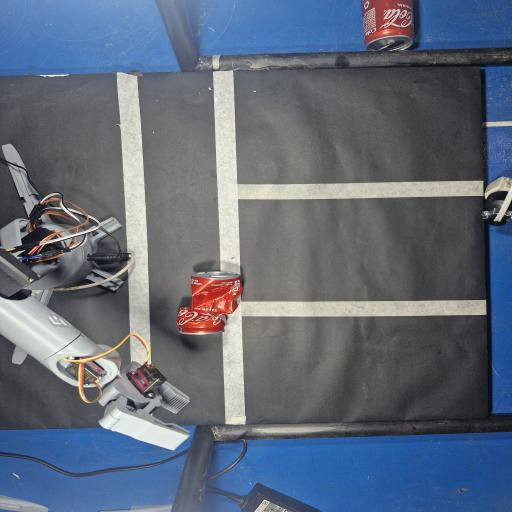lata_defectuoso: (177, 272, 243, 333)
